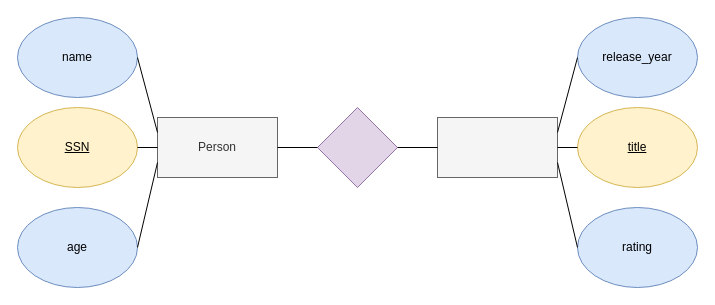
Image size: 715x305. Some labels were removed from this diagram. The centre of each missing label's shape, as x and y in pixels:
act: point 357,147
Movie: point 497,147
